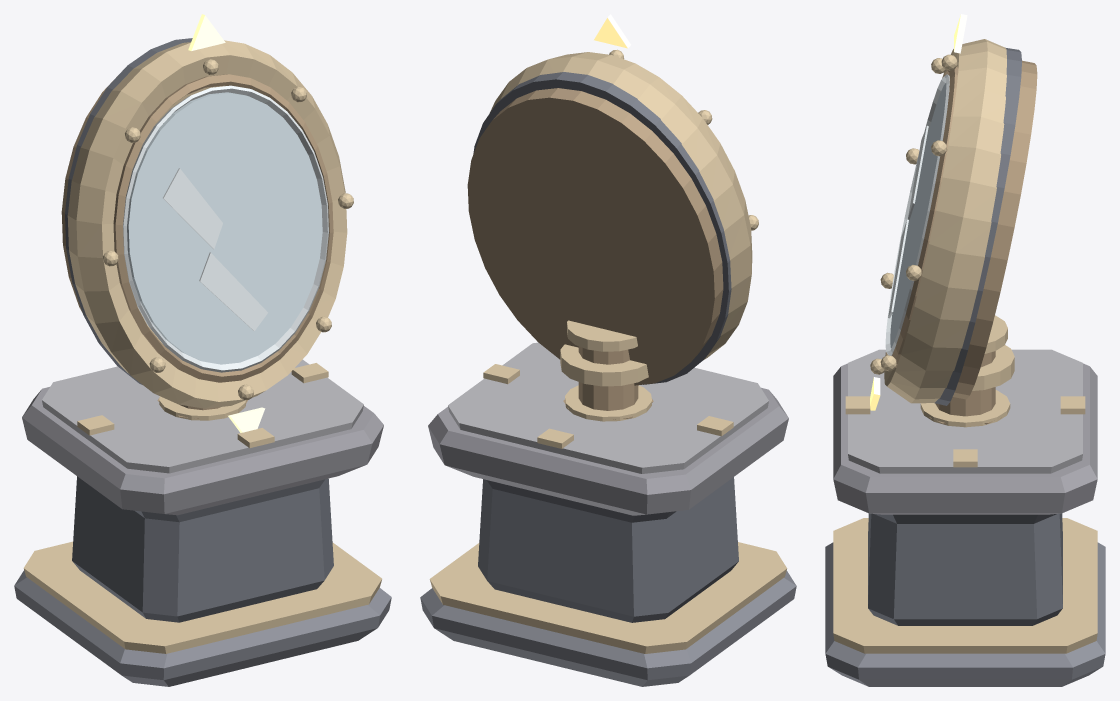
The model's file is mirror_complete.glb.
3 views of the same model, side by side, from view 1: azimuth 30°, elevation 25°; view 2: azimuth 150°, elevation 25°; view 3: azimuth 270°, elevation 25° (orthographic).
Parts seen in each view (by area): view 1: Mirror_Reflective_Surface, Mirror_Bronze_Frame, Stone_Base_Centre, Stone_Crown_Top, Stone_Crown, Stone_Base_Gold_Trim, Stone_Base_Lower, Mirror_Inner_Dark_Rim, Mirror_Silver_Lip, Mirror_Glint_1, Mirror_Glint_2, Mirror_Dark_Gasket (+4 smaller); view 2: Mirror_Backplate, Stone_Base_Centre, Stone_Crown_Top, Stone_Crown, Stone_Base_Gold_Trim, Stone_Base_Lower, Mirror_Bronze_Frame, Mirror_Dark_Gasket, Rotor_Joint_Lower, Rotor_Stem, Rotor_Joint_Upper, Bronze_Pedestal_Collar (+1 smaller); view 3: Stone_Base_Centre, Mirror_Bronze_Frame, Stone_Crown_Top, Stone_Base_Gold_Trim, Stone_Crown, Stone_Base_Lower, Mirror_Backplate, Mirror_Dark_Gasket, Mirror_Reflective_Surface, Mirror_Inner_Dark_Rim, Mirror_Silver_Lip, Bronze_Pedestal_Collar (+8 smaller).
Boxes of the visible parts, left/top/right/bottom form: Mirror_Reflective_Surface: left=127, top=92, right=322, bottom=364; Mirror_Bronze_Frame: left=67, top=40, right=347, bottom=408; Stone_Base_Centre: left=72, top=476, right=333, bottom=622; Stone_Crown_Top: left=42, top=359, right=363, bottom=473; Stone_Crown: left=22, top=387, right=383, bottom=515; Stone_Base_Gold_Trim: left=23, top=541, right=381, bottom=653; Stone_Base_Lower: left=14, top=570, right=391, bottom=686; Mirror_Inner_Dark_Rim: left=113, top=74, right=333, bottom=382; Mirror_Silver_Lip: left=123, top=85, right=328, bottom=372; Mirror_Glint_1: left=163, top=168, right=222, bottom=249; Mirror_Glint_2: left=199, top=252, right=267, bottom=331; Mirror_Dark_Gasket: left=65, top=38, right=192, bottom=384; Mirror_Backplate: left=467, top=88, right=723, bottom=385; Stone_Base_Centre: left=478, top=477, right=738, bottom=622; Stone_Crown_Top: left=448, top=342, right=768, bottom=473; Stone_Crown: left=428, top=387, right=788, bottom=515; Stone_Base_Gold_Trim: left=429, top=542, right=787, bottom=653; Stone_Base_Lower: left=420, top=570, right=796, bottom=686; Mirror_Bronze_Frame: left=490, top=52, right=752, bottom=360; Mirror_Dark_Gasket: left=473, top=72, right=731, bottom=384; Rotor_Joint_Lower: left=560, top=344, right=648, bottom=386; Rotor_Stem: left=578, top=346, right=638, bottom=410; Rotor_Joint_Upper: left=567, top=320, right=637, bottom=351; Bronze_Pedestal_Collar: left=565, top=385, right=651, bottom=421; Stone_Base_Centre: left=868, top=513, right=1062, bottom=625; Mirror_Bronze_Frame: left=884, top=39, right=1006, bottom=403; Stone_Crown_Top: left=848, top=349, right=1082, bottom=473; Stone_Base_Gold_Trim: left=833, top=518, right=1097, bottom=653; Stone_Crown: left=833, top=363, right=1097, bottom=514; Stone_Base_Lower: left=825, top=542, right=1105, bottom=686; Mirror_Backplate: left=952, top=60, right=1037, bottom=399; Mirror_Dark_Gasket: left=934, top=47, right=1021, bottom=405; Mirror_Reflective_Surface: left=890, top=83, right=946, bottom=347; Mirror_Inner_Dark_Rim: left=886, top=66, right=958, bottom=367; Mirror_Silver_Lip: left=885, top=74, right=949, bottom=355; Bronze_Pedestal_Collar: left=920, top=390, right=1010, bottom=427.
Bounding box in the file's own units: 1.42 × 3.03 × 1.25.
